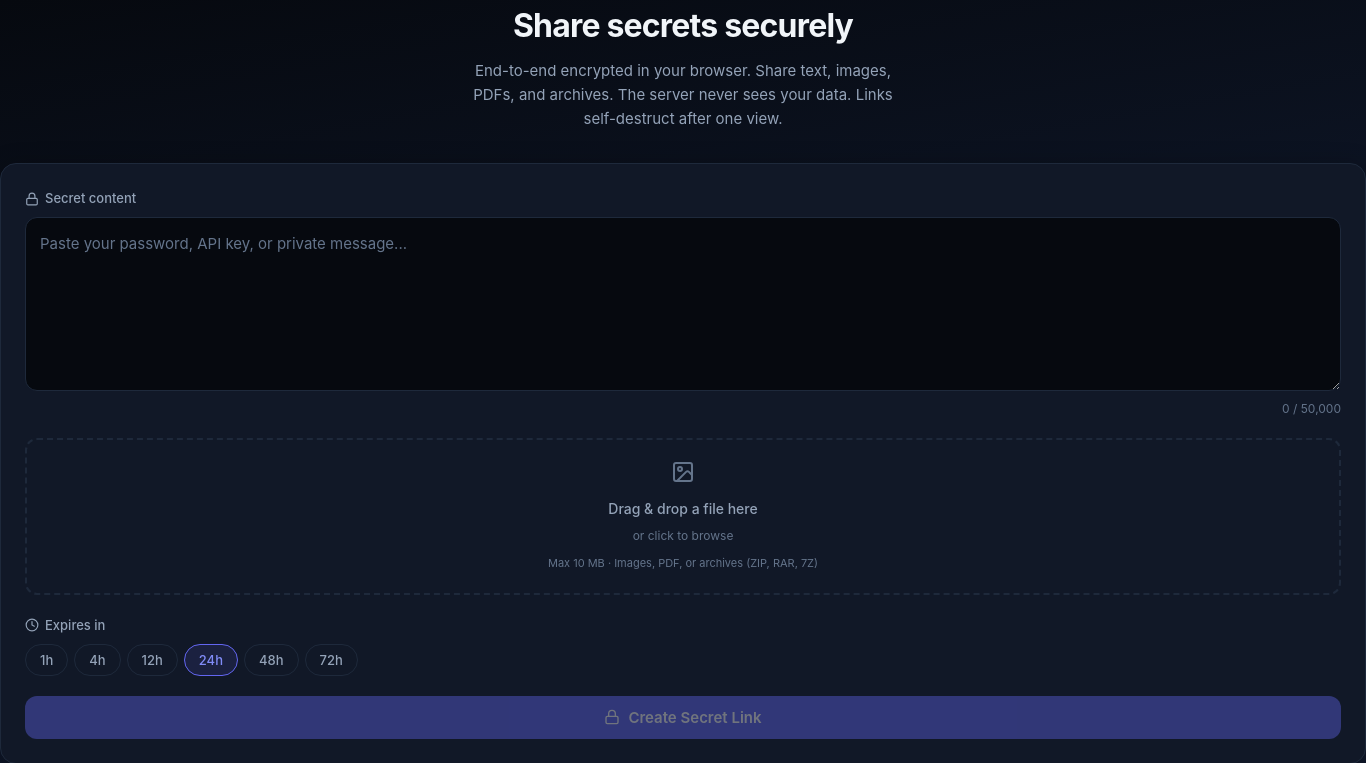
Scenario: CreateSecret › shows generic error for non-Error throws
Type "test" into the text box with placeholder "Paste your password, API key, or private message...".
click(683, 304); type("test")  # box [25,217,1341,391]
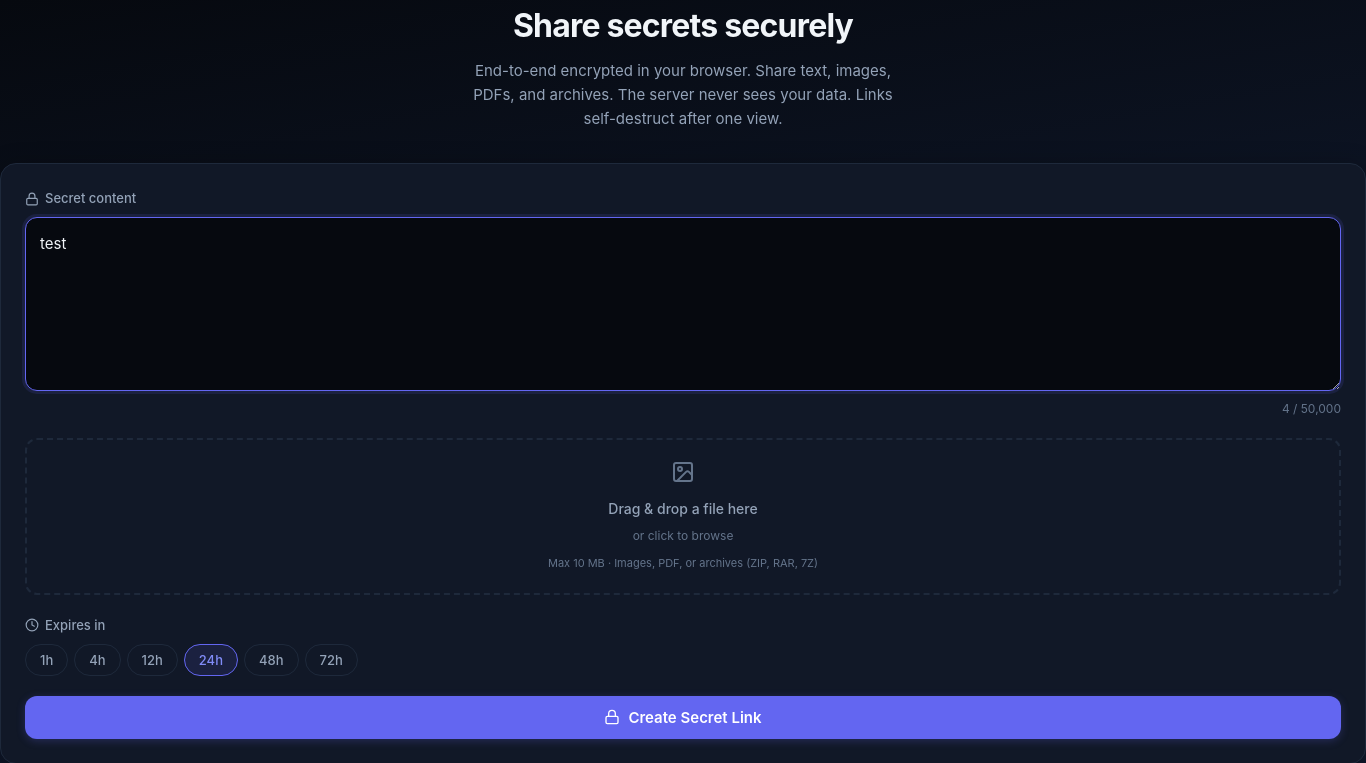
Click the button "Create Secret Link".
click(683, 717)  # box [25,696,1341,739]
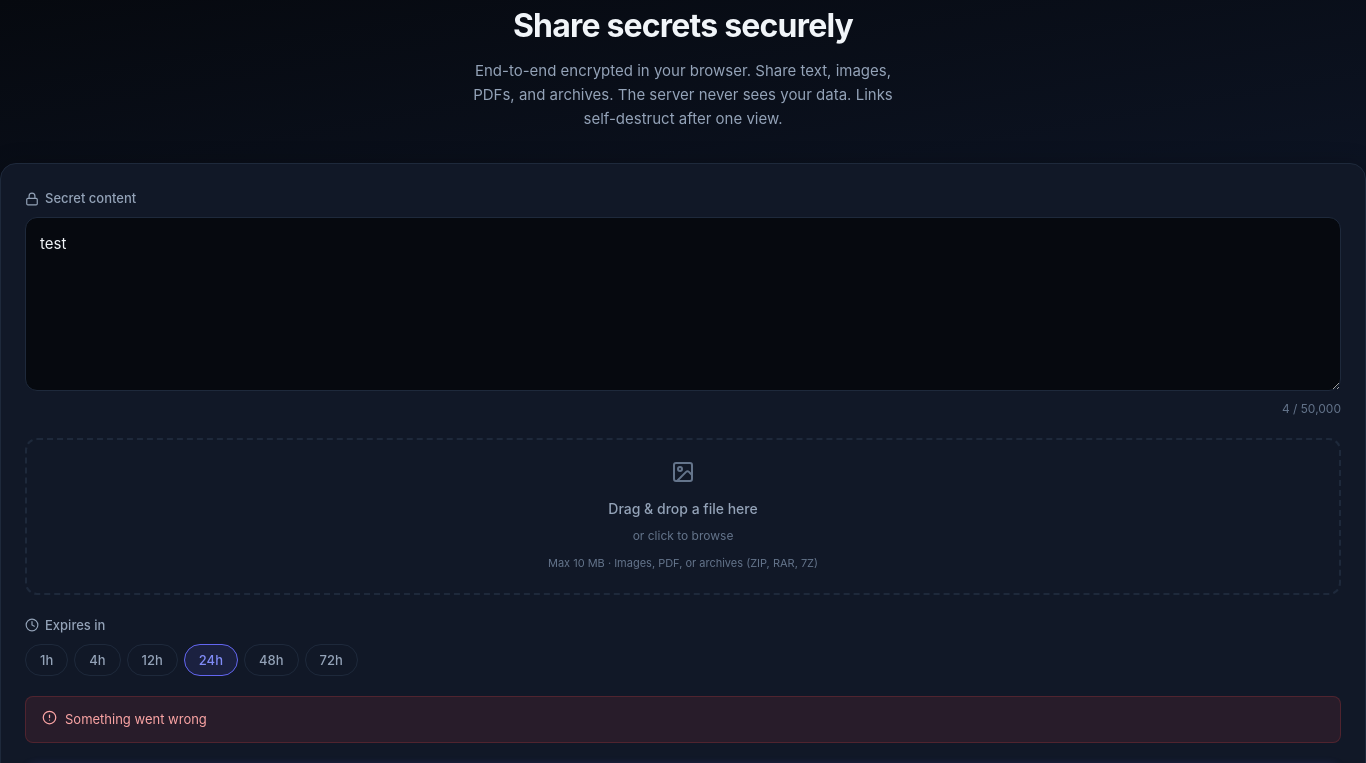
Expected: the text "Something went wrong" is shown, [65,709,207,730]
